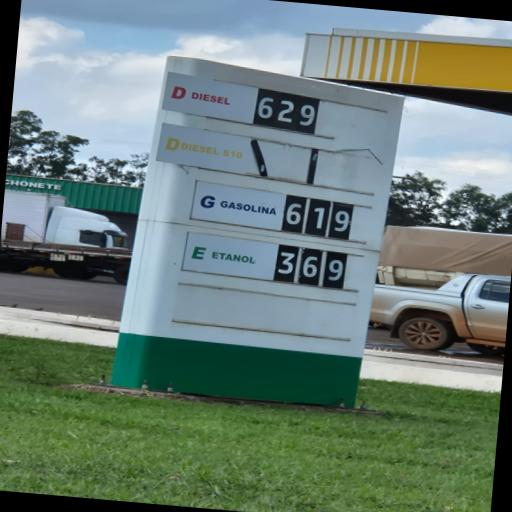ETANOL: (183, 232, 277, 279)
GASOLINA C: (194, 177, 286, 229)
S10: (160, 125, 251, 172)
S500: (163, 72, 255, 119)
placa: (112, 56, 404, 411)
preco: (284, 191, 352, 241), (276, 244, 349, 290), (258, 88, 322, 133)
